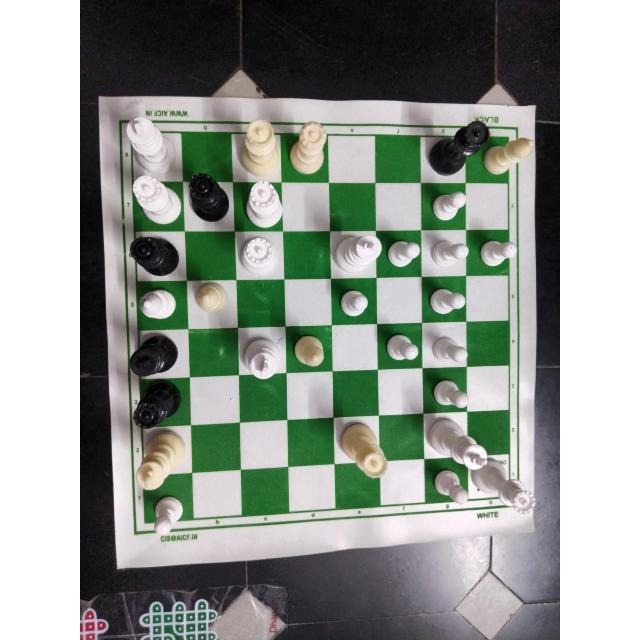black-king: (126, 335, 185, 377)
black-queen: (424, 119, 487, 183), (128, 381, 184, 428), (127, 233, 185, 277), (182, 171, 233, 221)
white-bishop: (482, 136, 535, 180), (136, 286, 184, 322), (290, 331, 330, 370), (191, 280, 228, 316)
white-king: (128, 432, 195, 492), (425, 414, 493, 471), (120, 115, 181, 173), (239, 332, 284, 384), (332, 227, 384, 271)
white-pawn: (143, 492, 185, 536), (430, 465, 474, 506), (426, 374, 471, 410), (428, 187, 469, 225), (427, 283, 471, 318), (429, 333, 471, 367), (477, 237, 519, 270), (428, 236, 469, 269), (382, 238, 421, 272), (382, 330, 421, 364), (337, 287, 373, 319)
white-queen: (470, 457, 536, 514), (335, 420, 392, 481), (234, 116, 284, 176), (128, 173, 184, 226), (287, 120, 329, 180), (242, 179, 286, 229), (238, 236, 281, 276)
